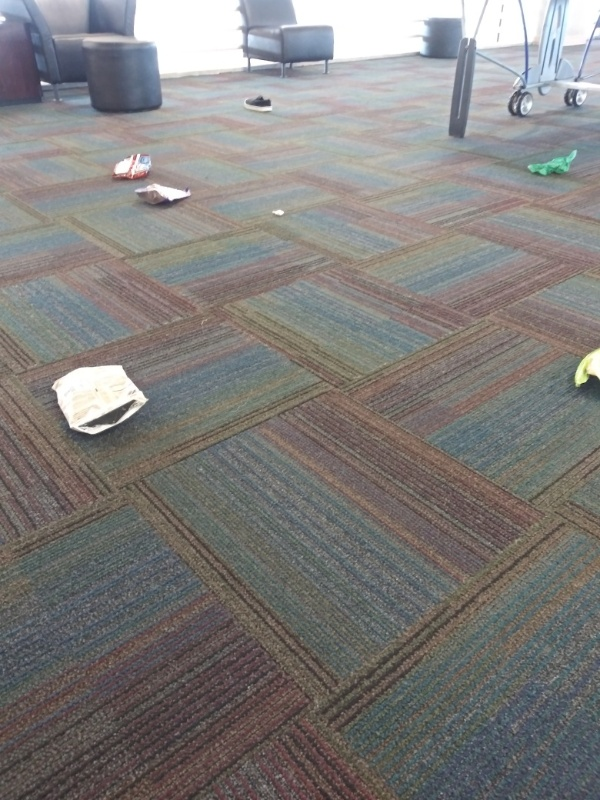bag: (44, 359, 156, 442), (132, 179, 200, 211), (105, 149, 160, 182), (572, 344, 600, 399)
